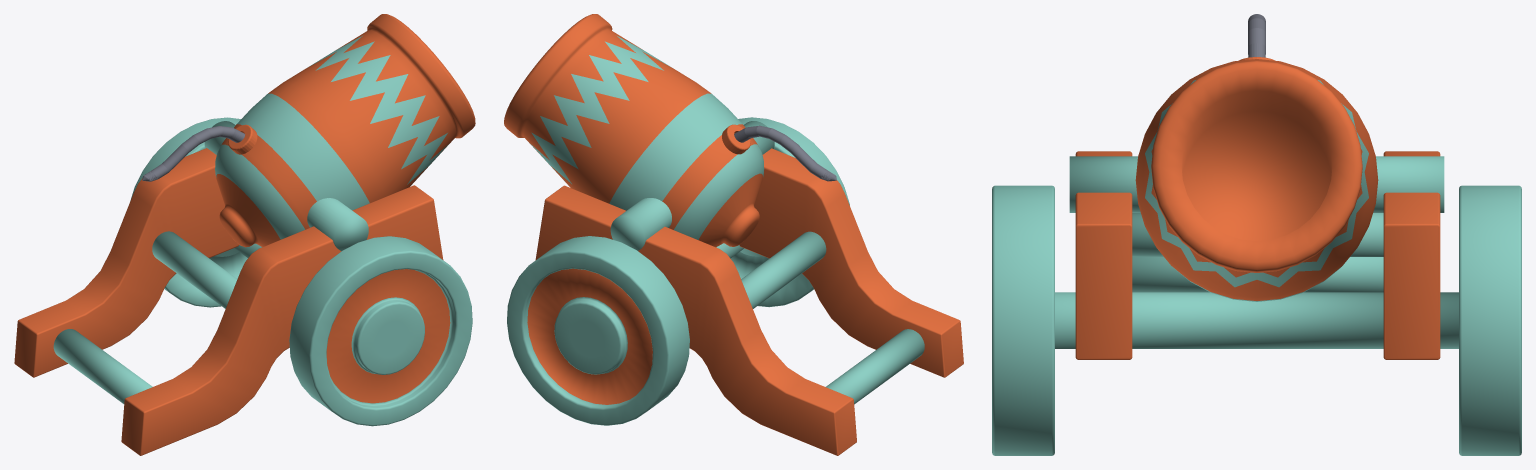
Rendered from cannon.glb.
3 views of the same model, side by side, from view 1: azimuth 30°, elevation 25°; view 2: azimuth 150°, elevation 25°; view 3: azimuth 270°, elevation 25° (orthographic). The views are drawn at different scales.
Parts seen in each view (by area): view 1: Cube.007; view 2: Cube.007; view 3: Cube.007.
Boxes of the visible parts, x1,y1,x2,y2 form: Cube.007: [14, 14, 475, 455]; Cube.007: [504, 14, 963, 455]; Cube.007: [992, 14, 1521, 455].
Bounding box in the file's own units: 2.32 × 1.82 × 1.94.
